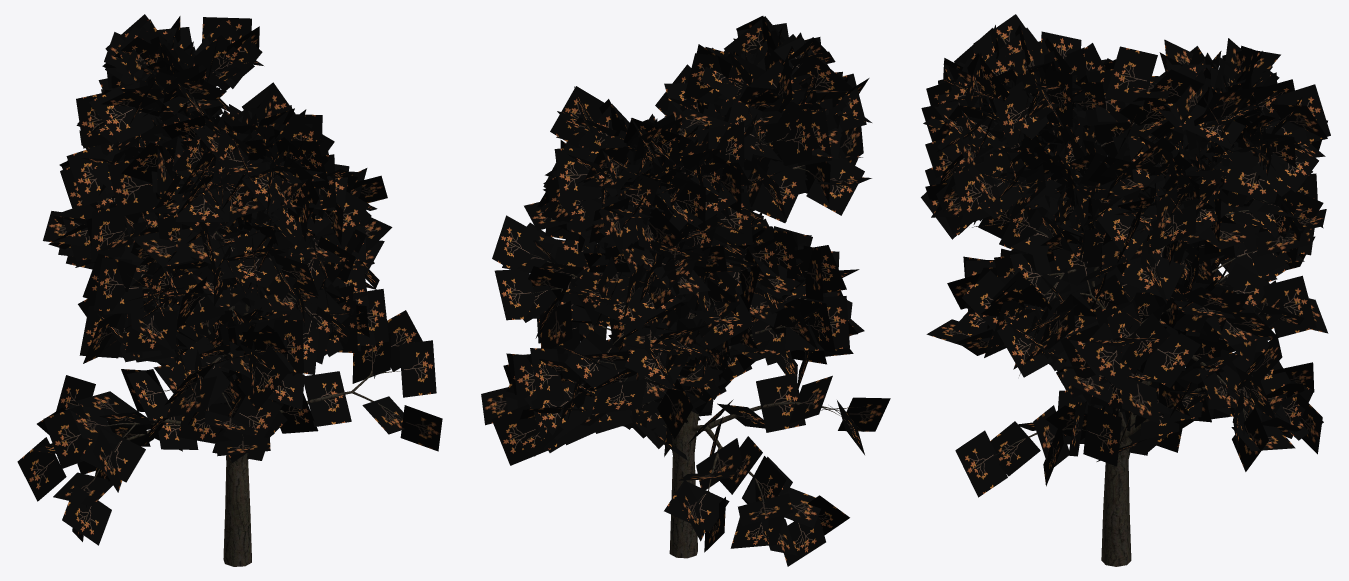
File: SM_tree_01.glb
The picture shows the model from 3 angles, left to right: view 1: azimuth 30°, elevation 25°; view 2: azimuth 150°, elevation 25°; view 3: azimuth 270°, elevation 25°; orthographic projection. The views are drawn at different scales.
Visible parts, largest first — view 1: SM_tree_01; view 2: SM_tree_01; view 3: SM_tree_01.
Boxes of the visible parts, x1=… form: SM_tree_01: x1=17, y1=14, x2=442, y2=566; SM_tree_01: x1=481, y1=16, x2=890, y2=566; SM_tree_01: x1=921, y1=14, x2=1330, y2=566.
Bounding box in the file's own units: 17.32 × 23.43 × 17.44.
Materials: 2 (2 with a texture image).
